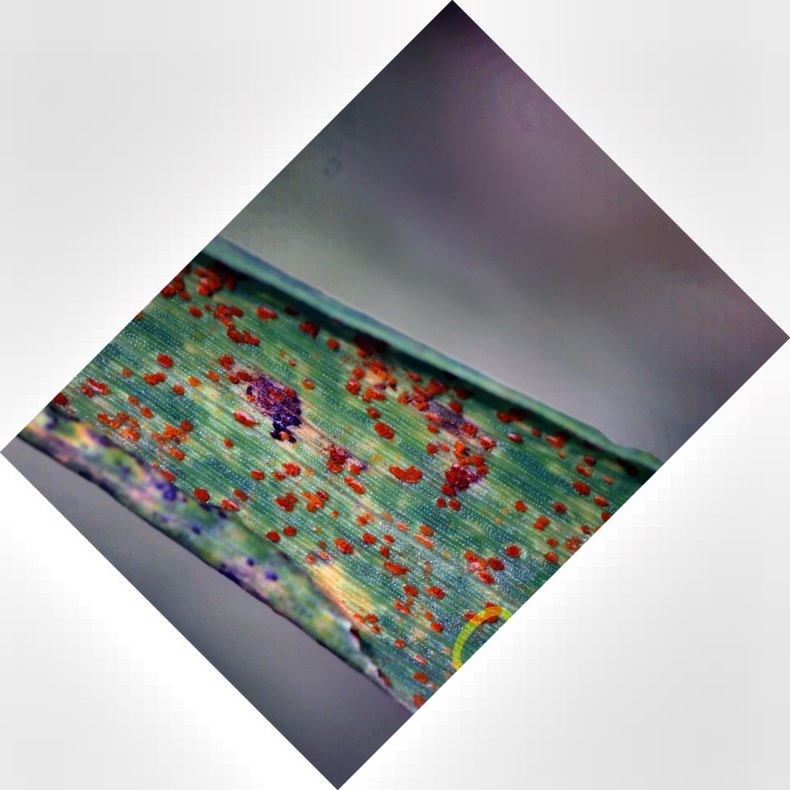Leaf Rust: (101, 300, 502, 655)
